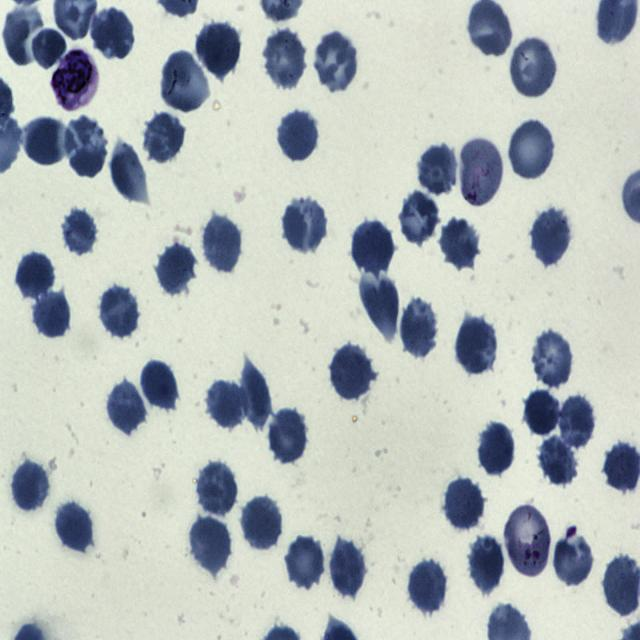difficult: (50, 46, 99, 110)
red blood cell: (158, 50, 210, 114), (508, 36, 558, 100), (508, 117, 556, 182), (312, 29, 359, 92), (196, 20, 242, 82), (261, 27, 307, 89), (359, 273, 399, 343), (64, 115, 108, 178), (530, 328, 575, 389), (22, 116, 79, 164), (3, 4, 45, 66), (188, 515, 232, 572), (109, 143, 149, 205), (329, 345, 374, 400), (455, 317, 497, 374), (398, 190, 440, 247), (284, 196, 328, 250), (238, 360, 270, 433), (90, 8, 134, 61), (352, 219, 394, 274), (196, 462, 238, 517), (553, 532, 595, 587), (532, 207, 572, 264), (399, 300, 438, 358), (328, 539, 366, 598), (202, 216, 242, 272), (285, 534, 325, 590), (416, 143, 458, 196), (468, 535, 505, 595), (268, 409, 308, 464), (206, 378, 247, 431), (106, 380, 146, 434), (444, 477, 484, 531), (242, 496, 282, 550), (409, 558, 448, 613), (54, 500, 94, 553), (439, 216, 478, 270), (157, 242, 196, 296), (477, 421, 515, 476), (99, 285, 139, 337), (278, 110, 318, 161), (143, 114, 184, 163), (538, 437, 578, 487), (15, 250, 55, 300), (11, 461, 50, 512), (559, 396, 596, 449), (32, 289, 71, 339), (142, 360, 178, 412), (60, 207, 97, 257), (525, 388, 561, 439), (30, 27, 65, 72)
ring: (504, 500, 552, 578), (458, 136, 504, 209)
